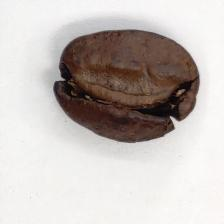NG: (56, 58, 183, 121)
